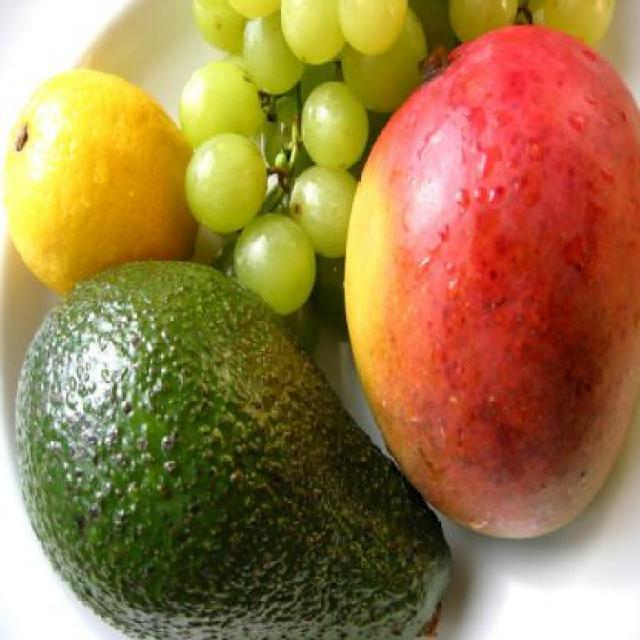Mango: (346, 23, 639, 542)
